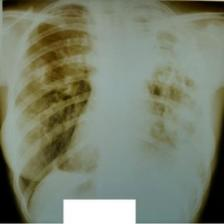tuberculosis: (7, 0, 208, 224)
